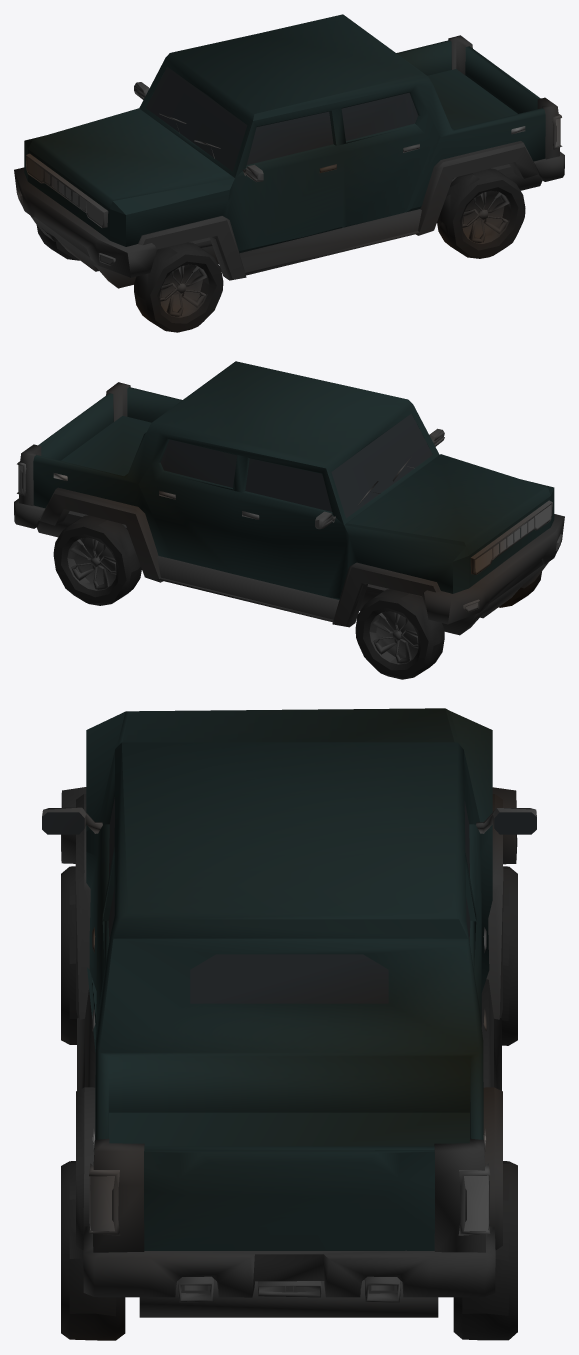
Rendered from city_car_2.glb.
3 views of the same model, one above another, from view 1: azimuth 30°, elevation 25°; view 2: azimuth 150°, elevation 25°; view 3: azimuth 270°, elevation 25° (orthographic). The views are drawn at different scales.
Visible parts, largest first — view 1: city_car_2; view 2: city_car_2; view 3: city_car_2.
Boxes of the visible parts, x1,y1,x2,y2 form: city_car_2: (14, 14, 564, 332); city_car_2: (14, 361, 564, 679); city_car_2: (42, 708, 536, 1340).
Bounding box in the file's own units: 4.4 × 1.72 × 2.05.
1 material, 1 textured.
